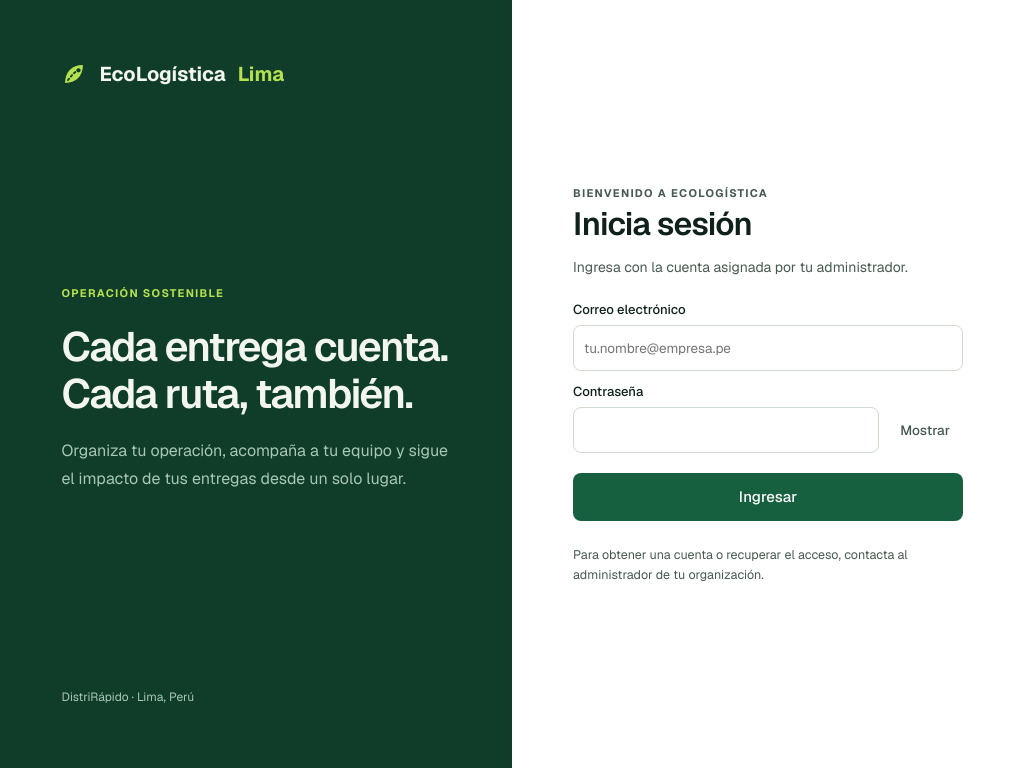
it: oculta y muestra la contraseña y evita logins duplicados
The width and height of the screenshot is (1024, 768).
expect the password field labelled "Contraseña" is shown: met, box [573, 407, 879, 453]
Type "ana@example.invalid" into the field labelled "Correo electrónico".
click(768, 348); type("ana@example.invalid")  # box [573, 325, 963, 371]
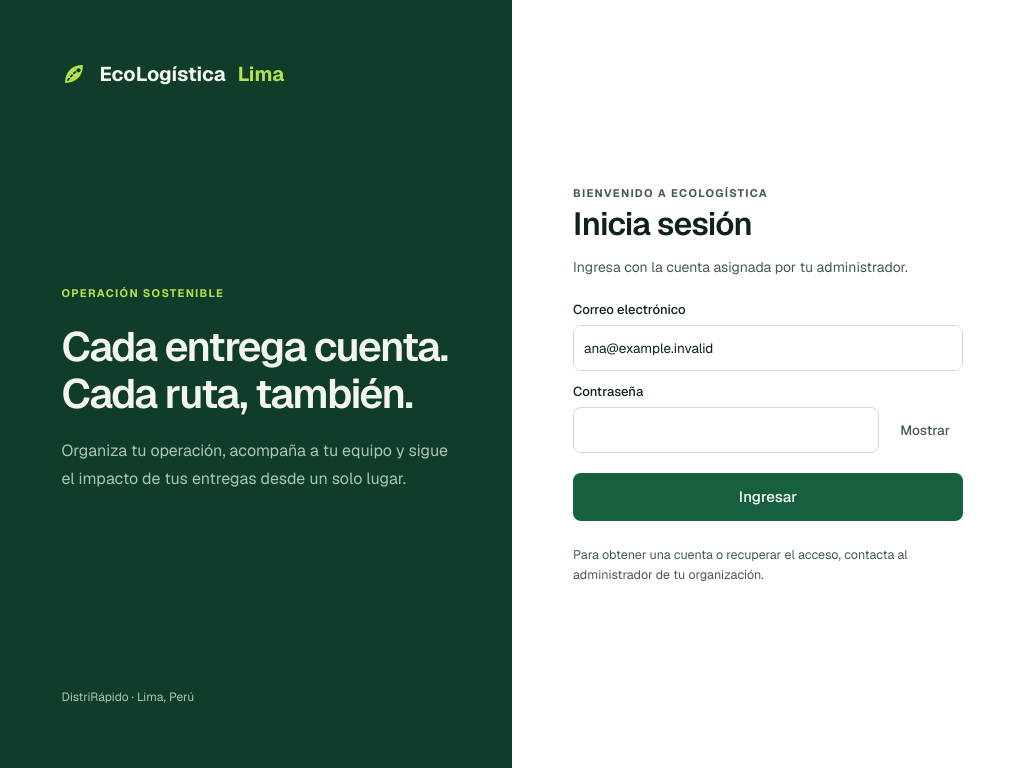
Type "test password" into the password field labelled "Contraseña".
click(726, 430); type("test password")  # box [573, 407, 879, 453]
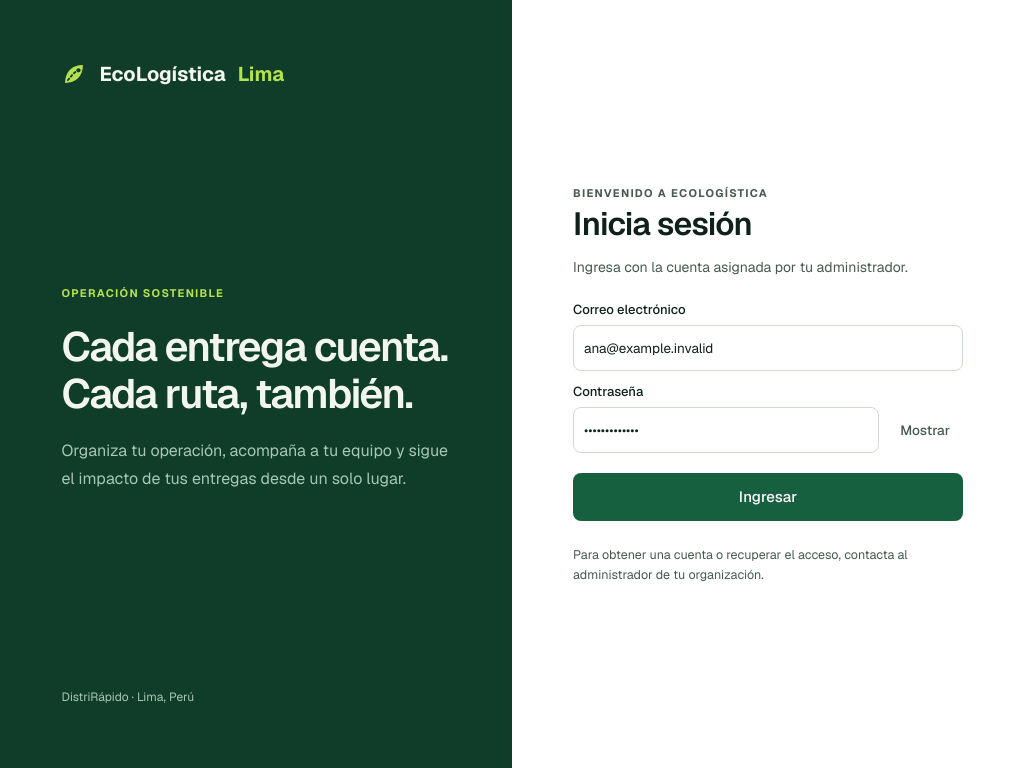
Click the button with aria-label "Mostrar contraseña".
click(925, 430)  # box [887, 414, 963, 446]
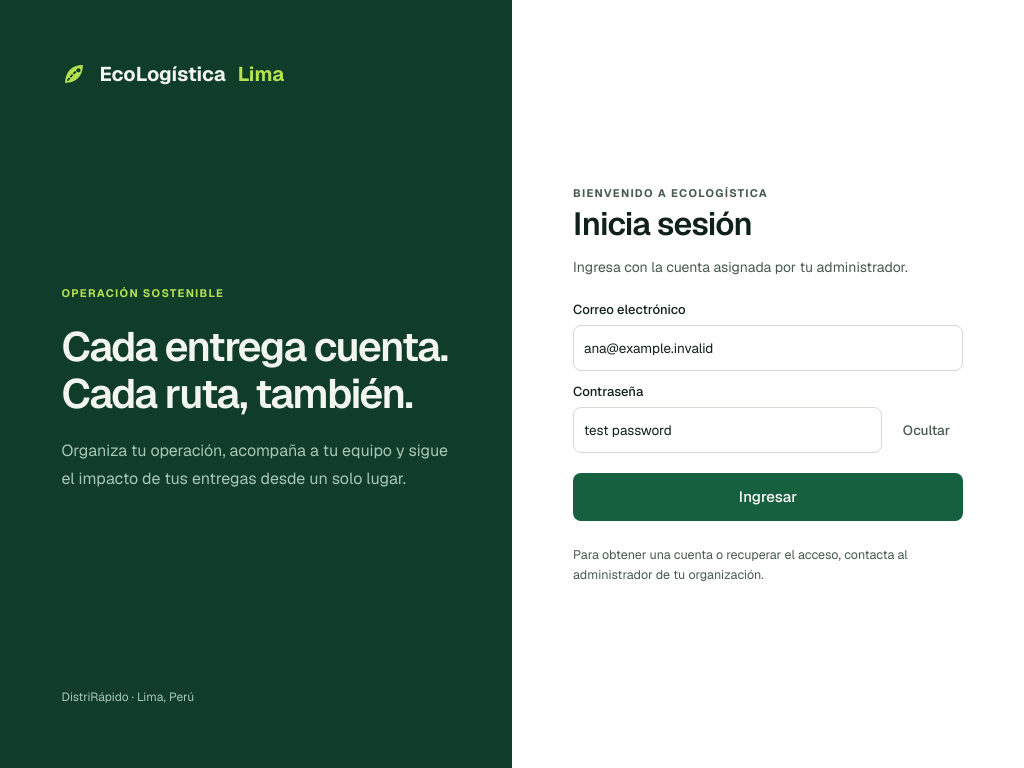
expect the field labelled "Contraseña" shows its text: met, box [573, 407, 882, 453]
Click the button with aria-label "Ocultar contraseña".
click(926, 430)  # box [890, 414, 963, 446]
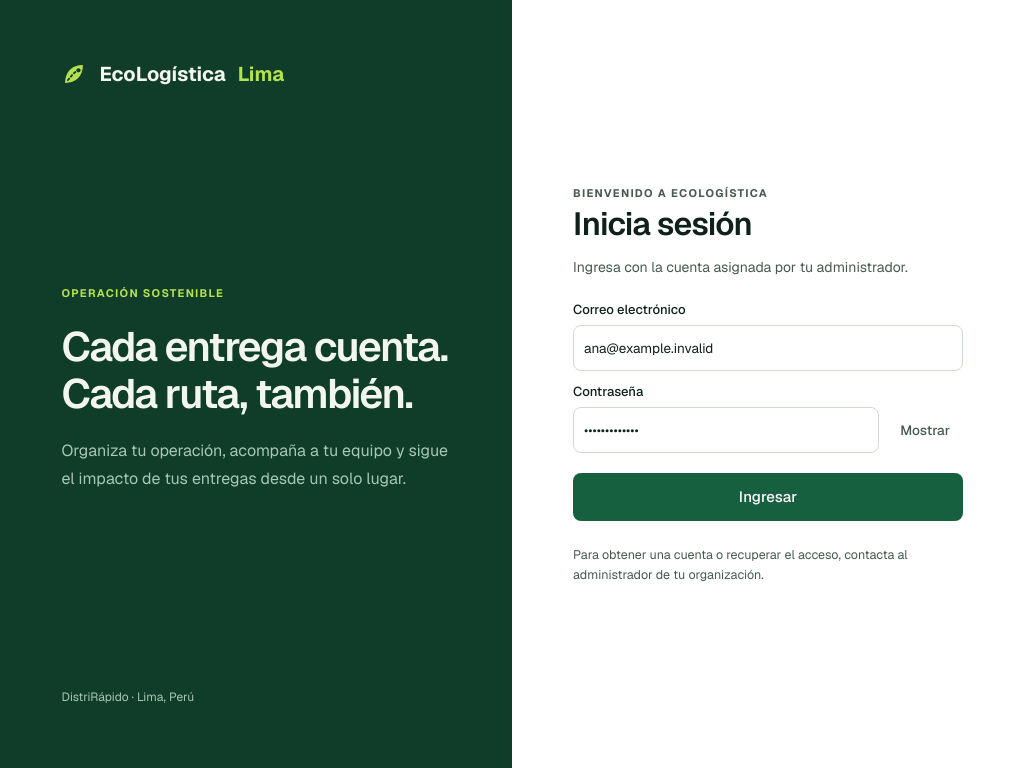
Submit the form "Ingresar", box [573, 301, 963, 521]
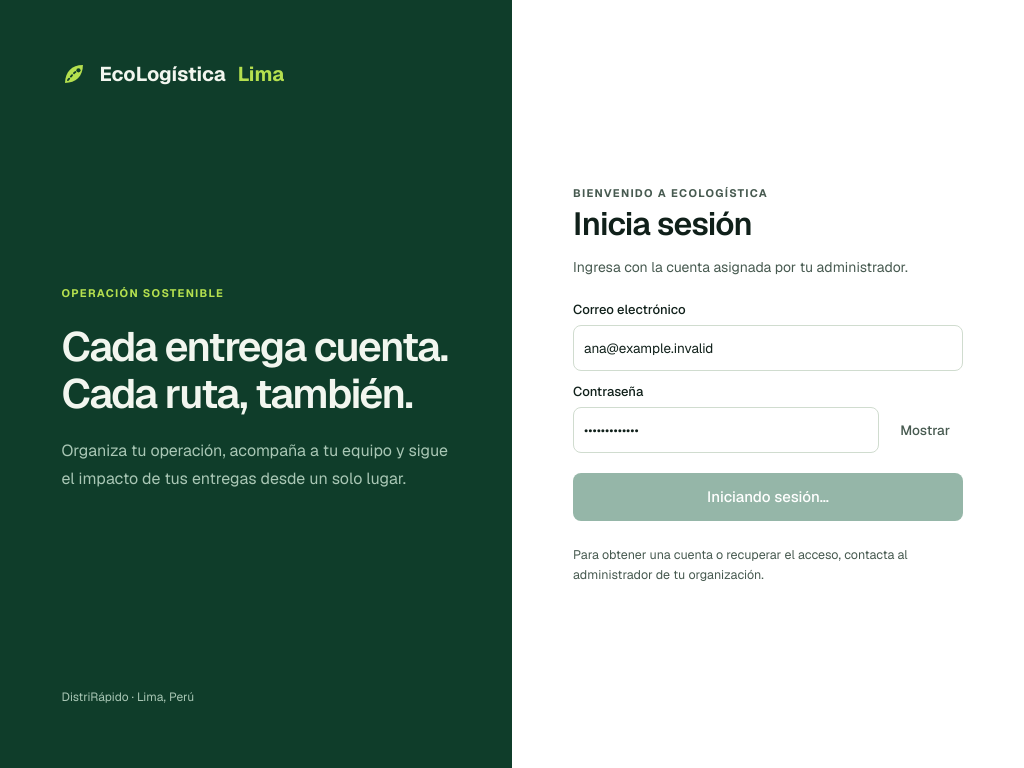
Submit the form named "Ingresar", box [573, 301, 963, 521]
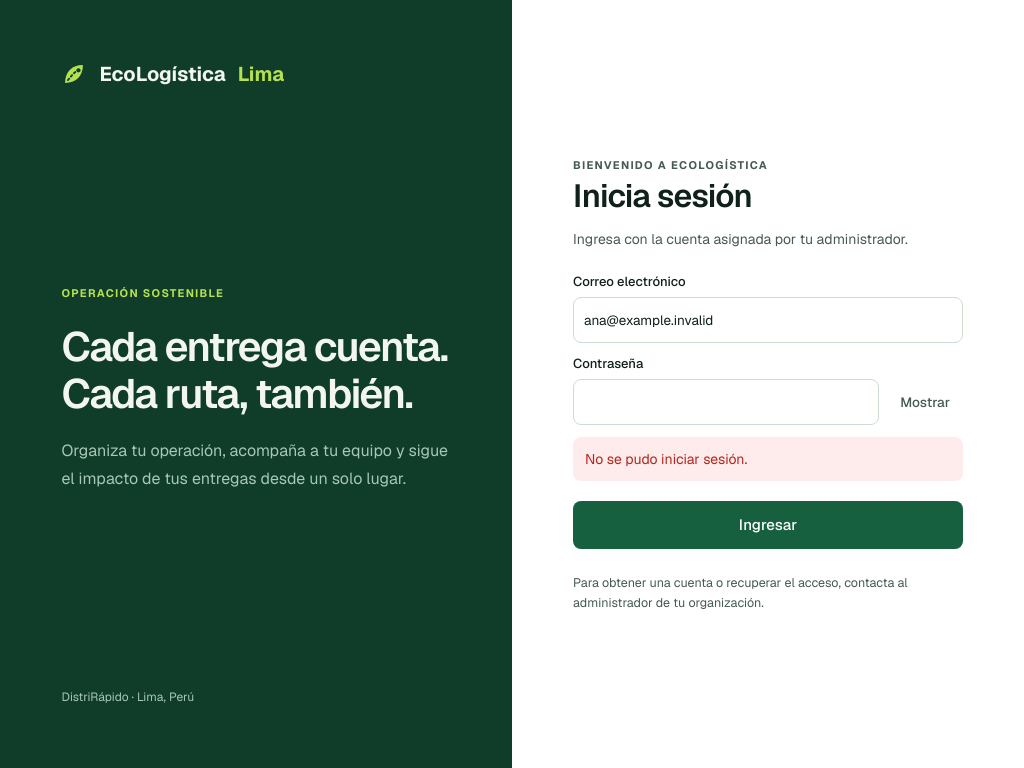
expect the message shows "No se pudo iniciar sesión": met, box [585, 450, 747, 468]
